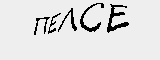Е: (104, 2, 133, 36), (48, 10, 59, 36)
Л: (56, 4, 79, 36)
П: (33, 14, 48, 38)
С: (77, 1, 106, 41)
